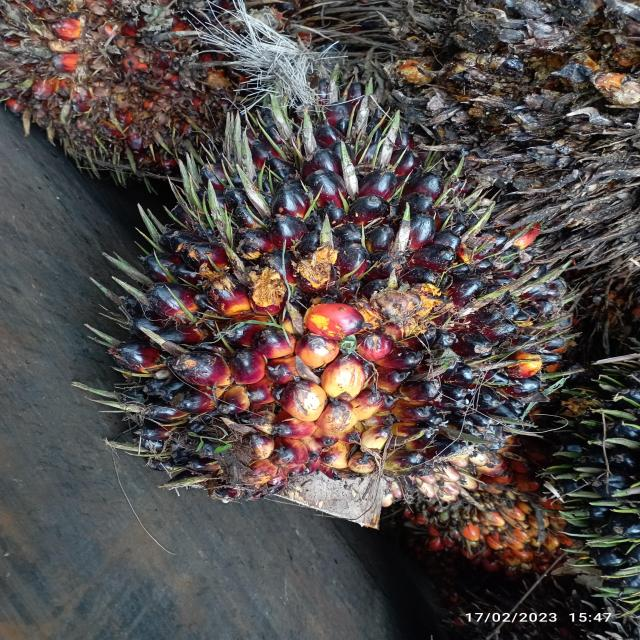fraksi 00: (25, 64, 603, 566)
